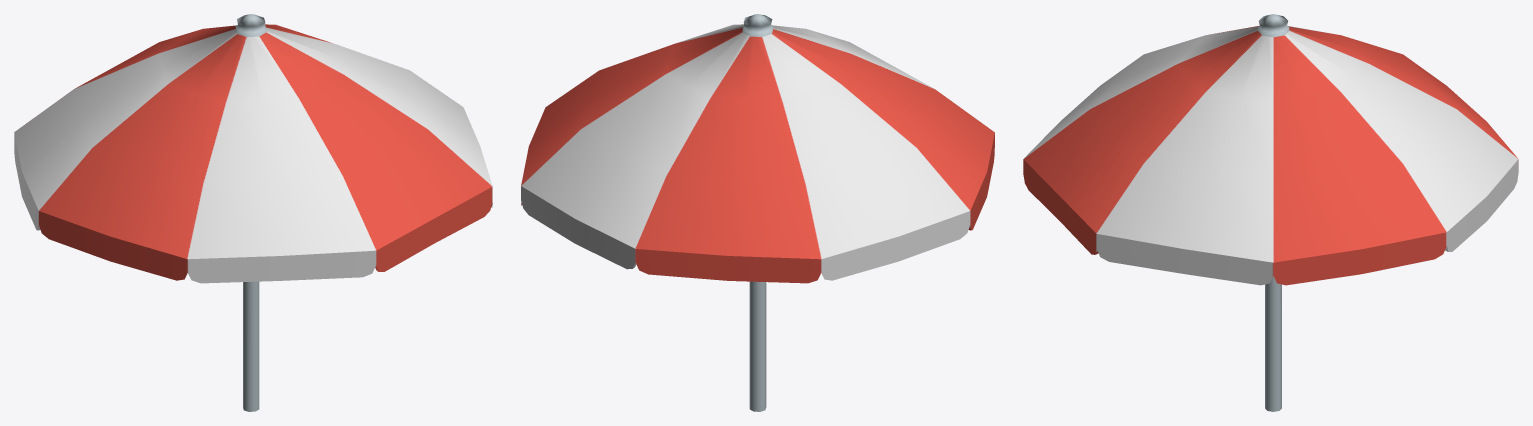
Rendered from OP-Beach_Umbrella_Small.fbx.
The picture shows the model from 3 angles, left to right: view 1: azimuth 30°, elevation 25°; view 2: azimuth 150°, elevation 25°; view 3: azimuth 270°, elevation 25°; orthographic projection.
Parts seen in each view (by area): view 1: Cylinder.002; view 2: Cylinder.002; view 3: Cylinder.002.
Boxes of the visible parts, left/top/right/bottom form: Cylinder.002: left=14, top=14, right=492, bottom=411; Cylinder.002: left=521, top=14, right=994, bottom=411; Cylinder.002: left=1023, top=14, right=1518, bottom=411.
Size of the model in its own units: 980 by 990 by 870.
